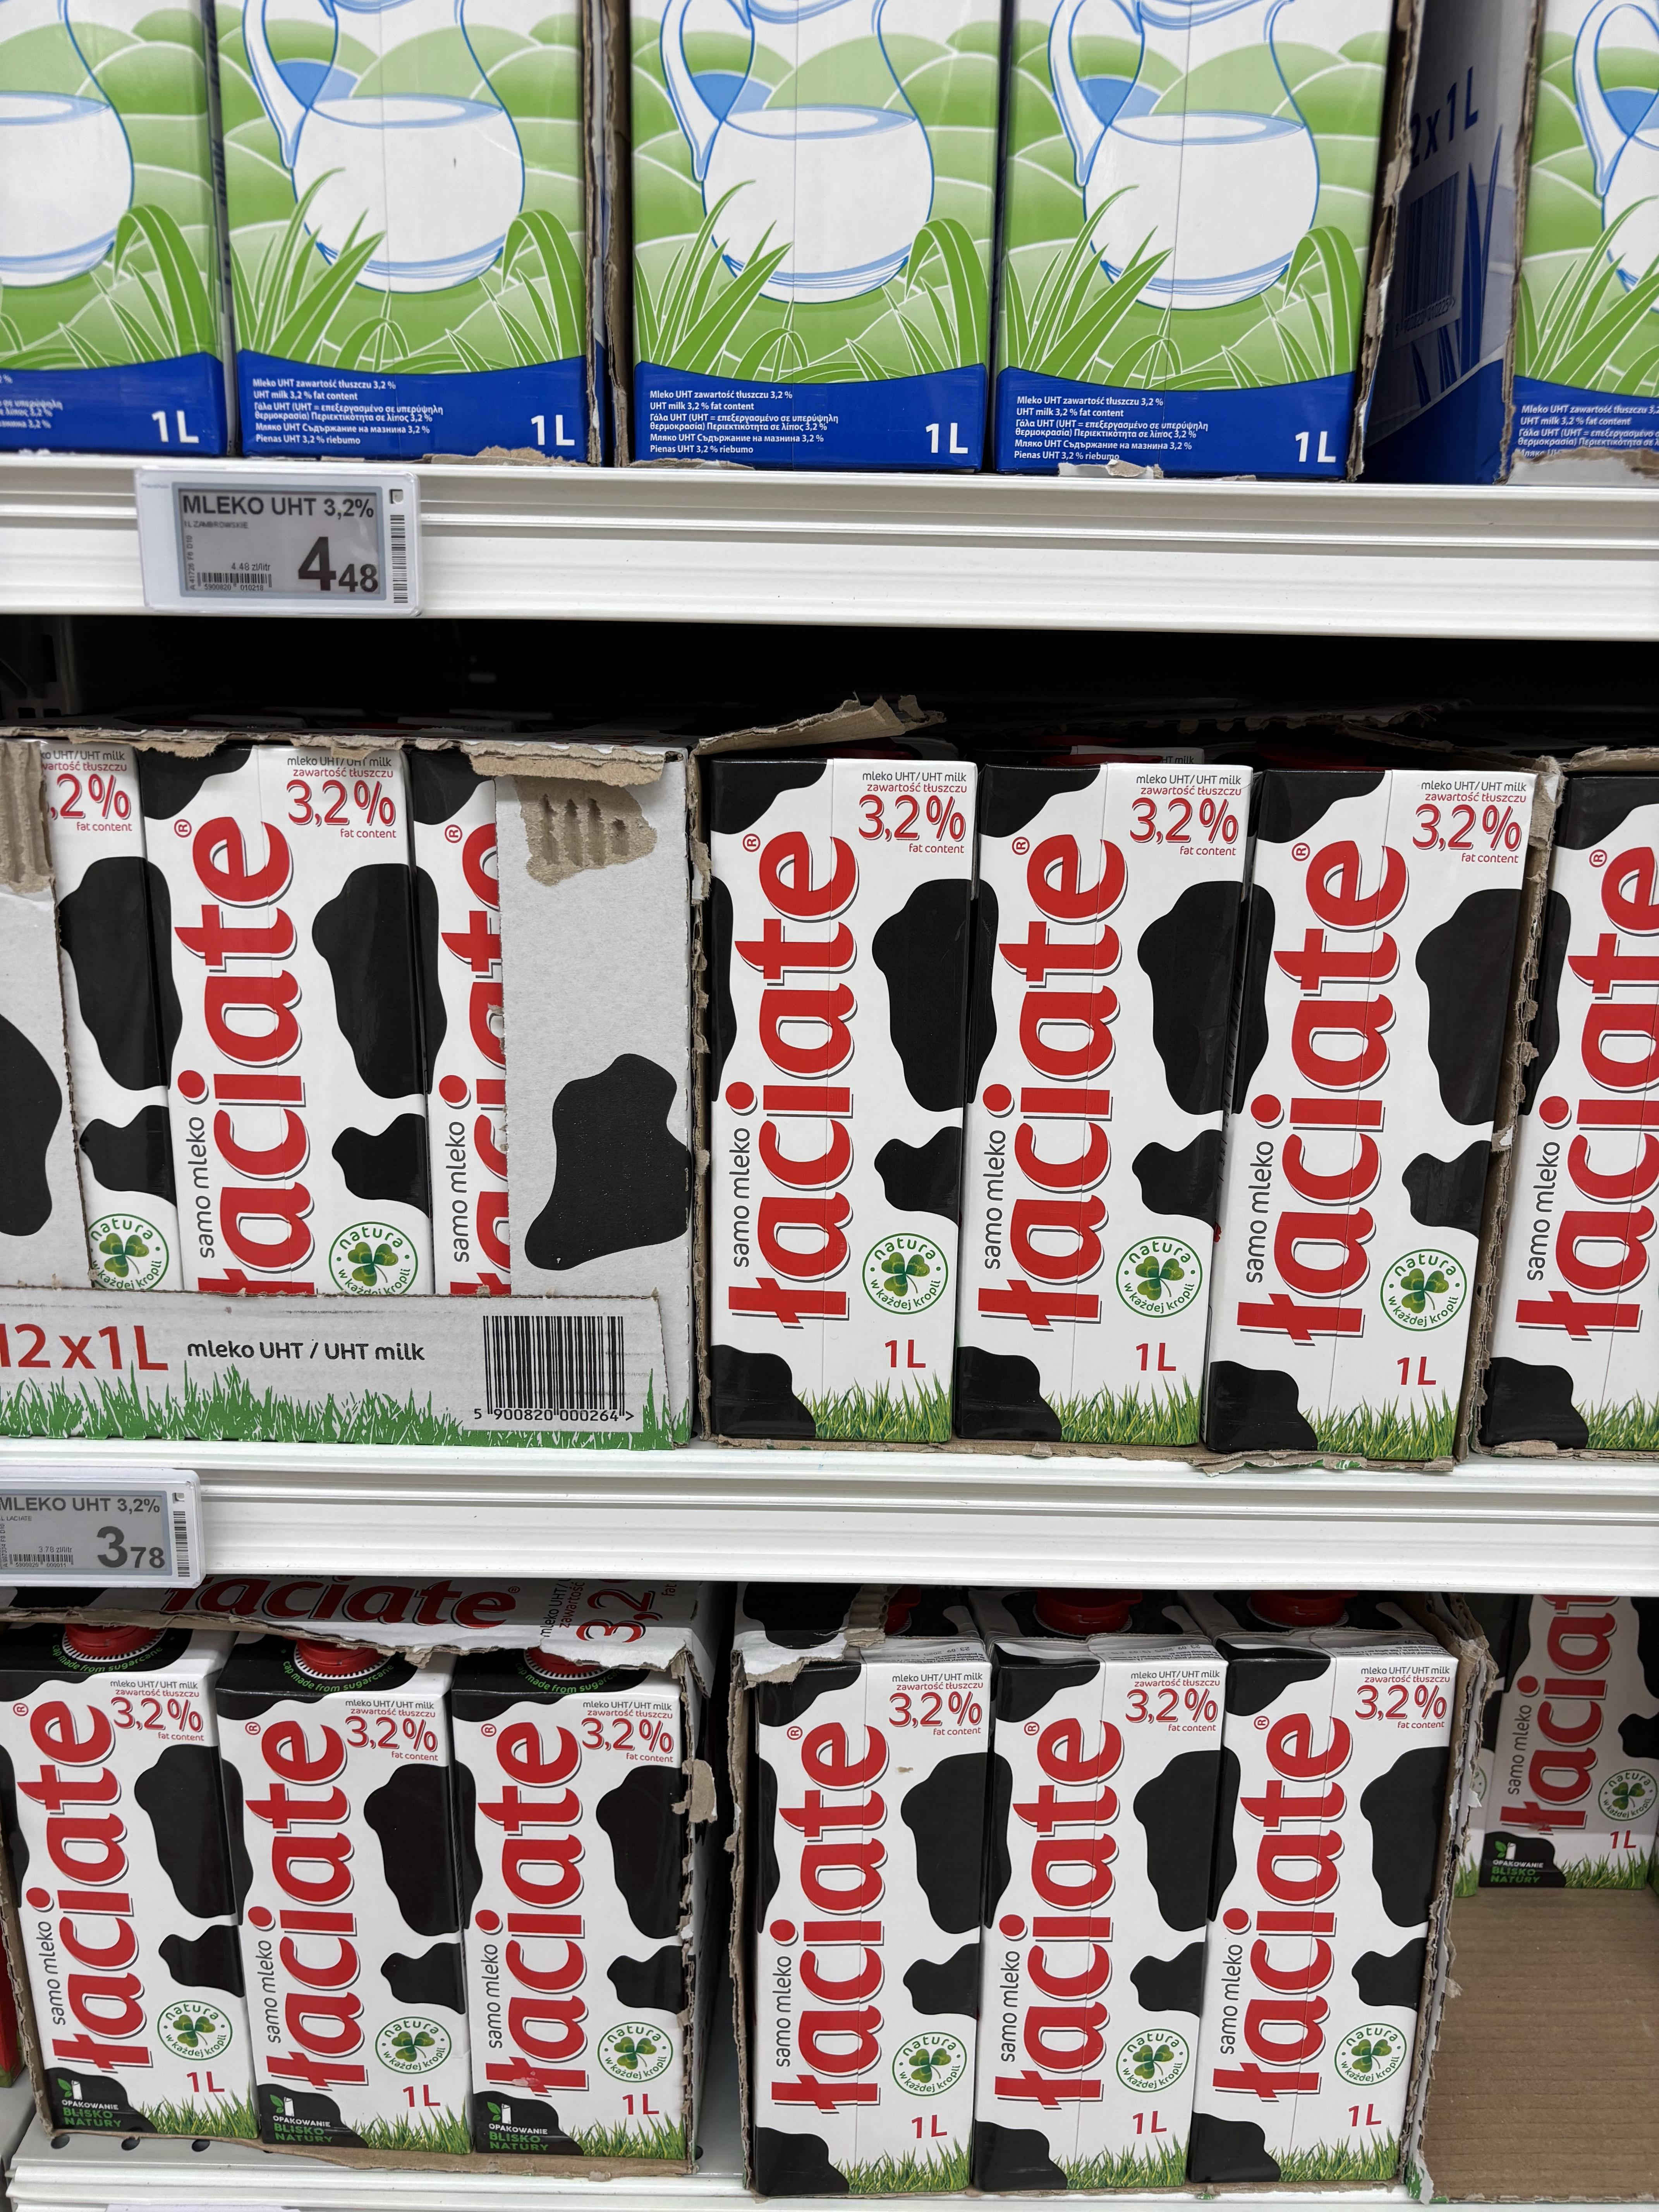Milk: (1208, 745, 1574, 1491), (87, 718, 448, 1440), (647, 730, 969, 1477), (953, 759, 1192, 1491), (739, 1630, 1011, 2212), (441, 1662, 723, 2198), (1206, 1637, 1443, 2191), (209, 1670, 479, 2142), (7, 1623, 256, 2087), (981, 1679, 1194, 2179)
